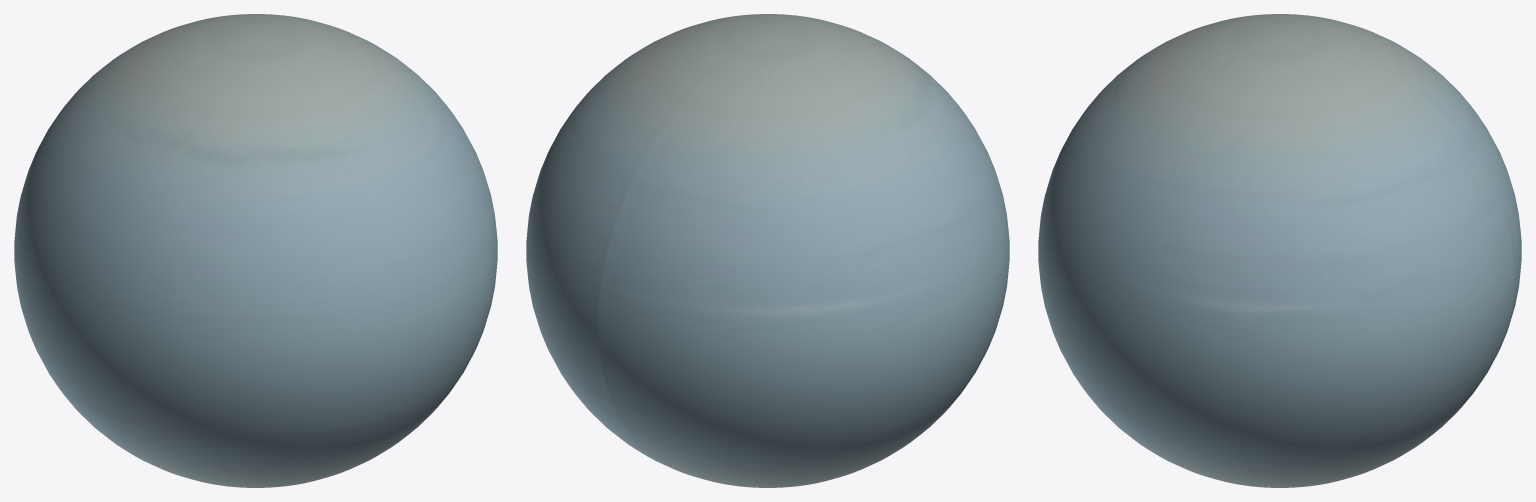
File: uranus.glb
3 views of the same model, side by side, from view 1: azimuth 30°, elevation 25°; view 2: azimuth 150°, elevation 25°; view 3: azimuth 270°, elevation 25° (orthographic).
Parts seen in each view (by area): view 1: Uranus; view 2: Uranus; view 3: Uranus.
Boxes of the visible parts, <box> form: Uranus: <box>14,14,497,487</box>; Uranus: <box>526,14,1009,487</box>; Uranus: <box>1038,14,1521,487</box>.
Size of the model in its own units: 2.27 by 2.22 by 2.27.
Materials: 1 (1 with a texture image).
